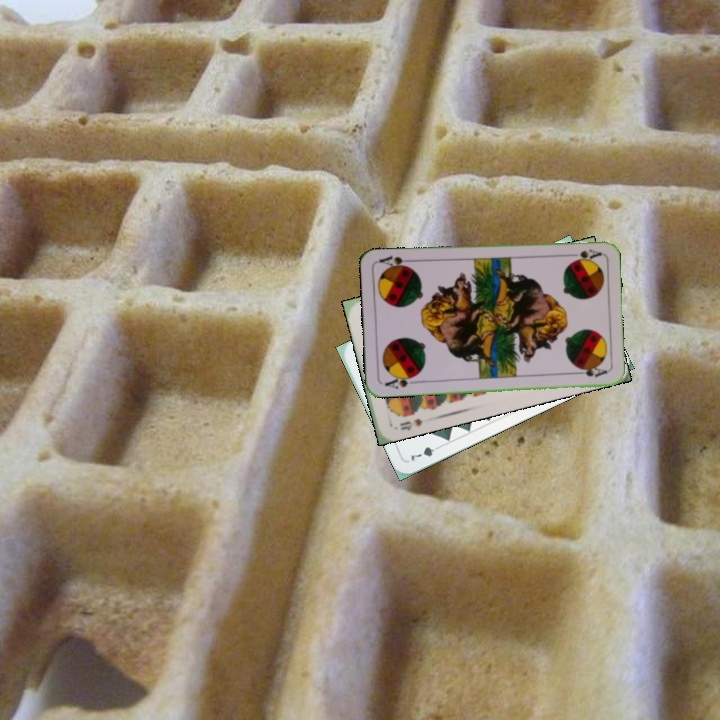G7: (407, 441, 444, 464)
S8: (396, 414, 425, 433)
SA: (380, 371, 420, 391), (563, 245, 604, 264)
